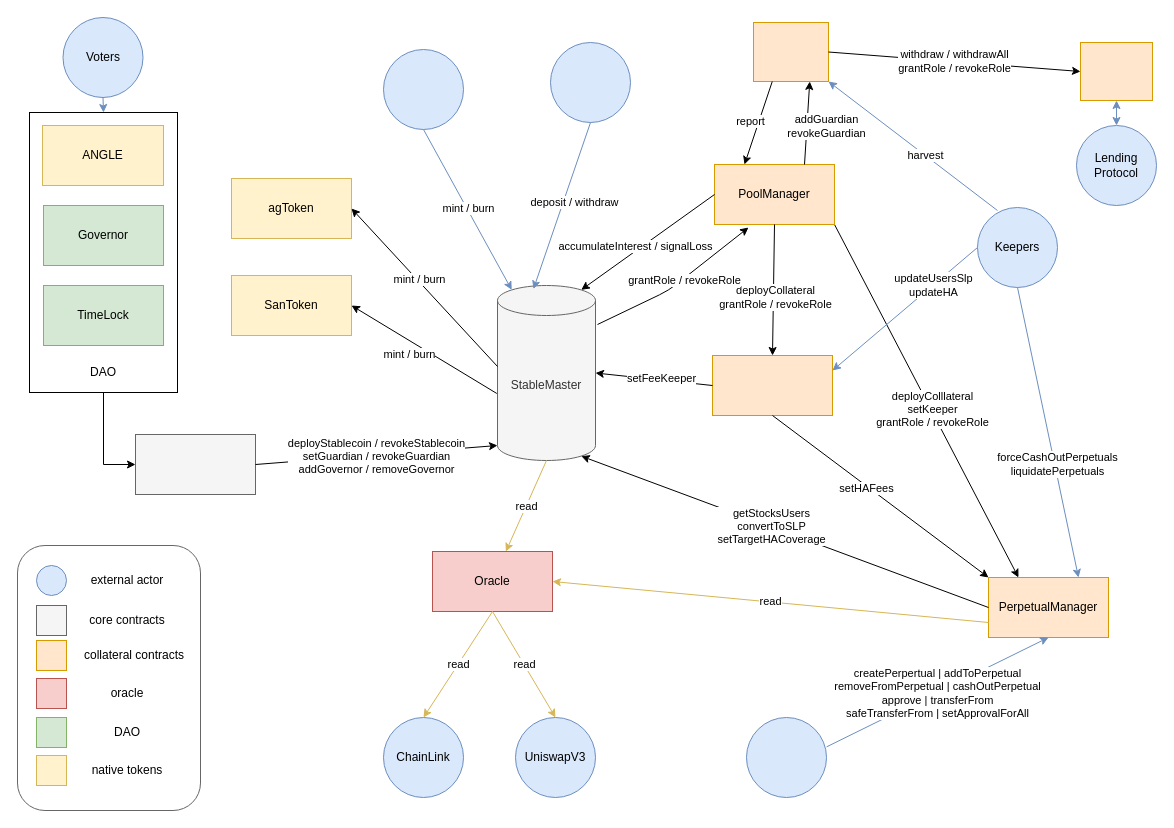
Some shapes in this 1174 by 828 pixel diagram are drawn without their labels. The centre of each missing label's shape, as x and y in pixels:
"Core" belongs at (195,464).
"FeeManager" belongs at (772,385).
"Hedging Agent" belongs at (786,757).
"Lender" belongs at (1116,71).
"Stable Holder" belongs at (423,89).
"Standard Liquidity Provider" belongs at (590,82).
"Strategy" belongs at (790,52).
